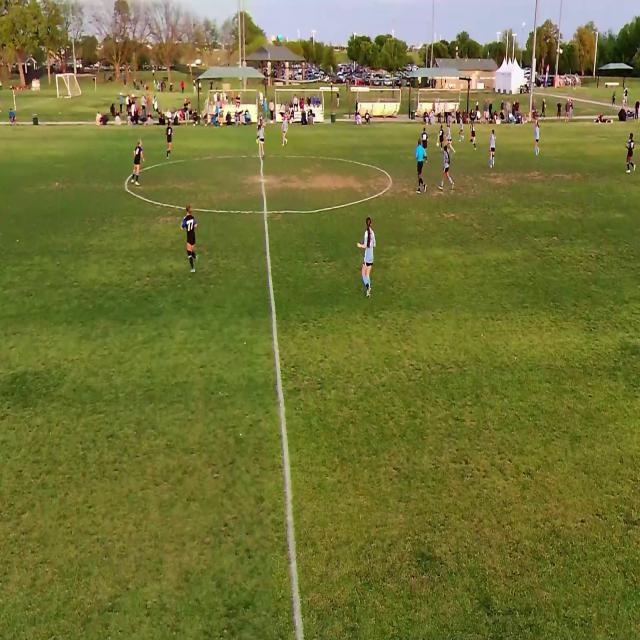ball: (436, 142, 439, 148)
team1: (186, 207, 200, 273), (128, 139, 144, 189), (626, 133, 636, 174), (166, 117, 174, 159), (437, 122, 447, 153), (469, 119, 478, 151), (422, 127, 428, 149)
team2: (362, 217, 378, 299), (441, 144, 456, 191), (489, 127, 497, 170), (447, 120, 456, 156), (258, 118, 266, 155), (534, 120, 542, 156), (280, 112, 288, 146), (459, 115, 465, 144)
